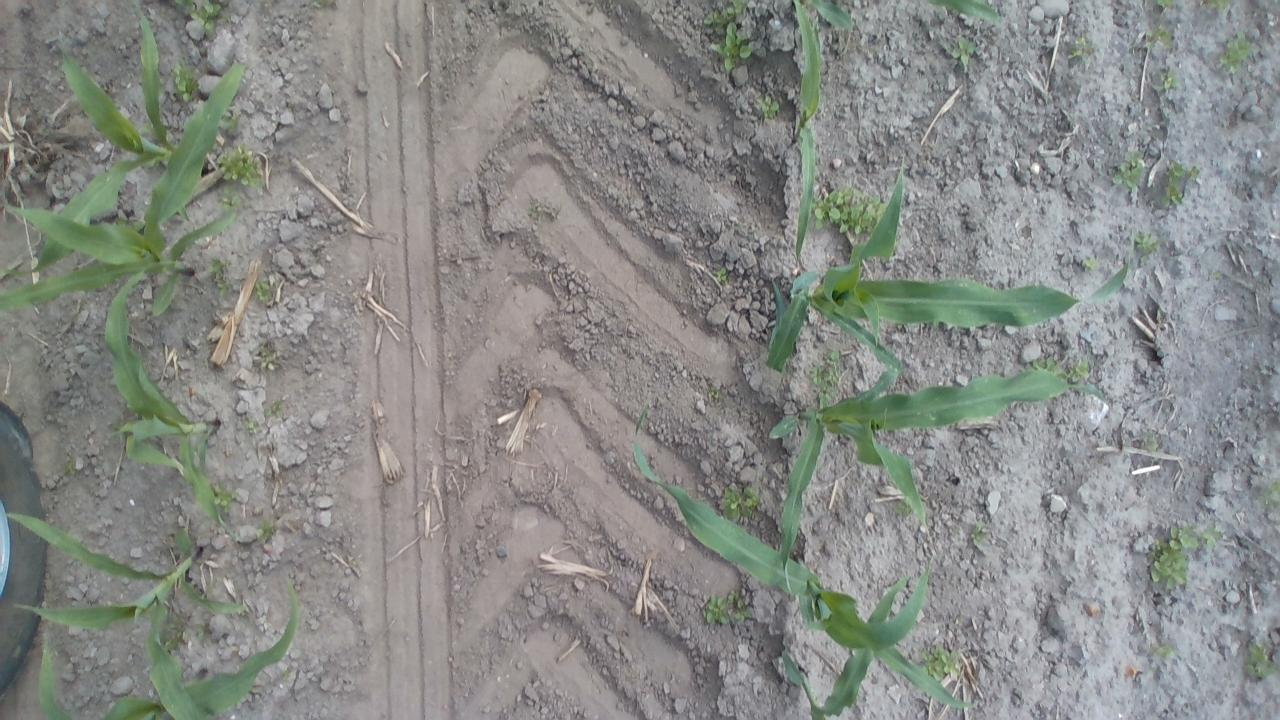Maize: (626, 403, 983, 713), (770, 150, 1130, 386), (760, 352, 1100, 574), (0, 59, 249, 332), (1, 498, 256, 720), (2, 13, 213, 278), (34, 574, 312, 720), (105, 262, 253, 534), (780, 570, 920, 720), (784, 0, 834, 260), (923, 0, 1006, 31), (814, 0, 864, 38)
Weeds: (1145, 518, 1220, 600), (804, 175, 889, 239), (697, 0, 755, 77), (214, 144, 276, 199), (1151, 152, 1197, 212), (700, 587, 759, 633), (1029, 353, 1095, 390), (810, 348, 849, 408), (917, 642, 968, 684), (718, 482, 763, 526), (176, 0, 224, 41), (1218, 31, 1256, 77), (1241, 636, 1274, 688), (1110, 147, 1146, 194), (164, 61, 199, 106), (204, 253, 237, 299), (946, 32, 981, 74), (1129, 231, 1163, 267), (209, 482, 242, 516), (211, 184, 243, 216), (1138, 25, 1174, 53), (254, 342, 284, 375), (1152, 68, 1181, 100), (754, 92, 784, 122), (1060, 33, 1090, 61), (966, 514, 990, 548), (522, 200, 551, 226), (253, 516, 278, 546), (1077, 250, 1104, 277), (252, 271, 272, 306), (1260, 480, 1280, 515), (1196, 0, 1232, 19), (706, 262, 734, 286), (258, 398, 289, 419), (182, 620, 210, 642), (1151, 642, 1175, 664), (1146, 0, 1181, 14), (1138, 432, 1158, 455), (241, 419, 265, 437)
